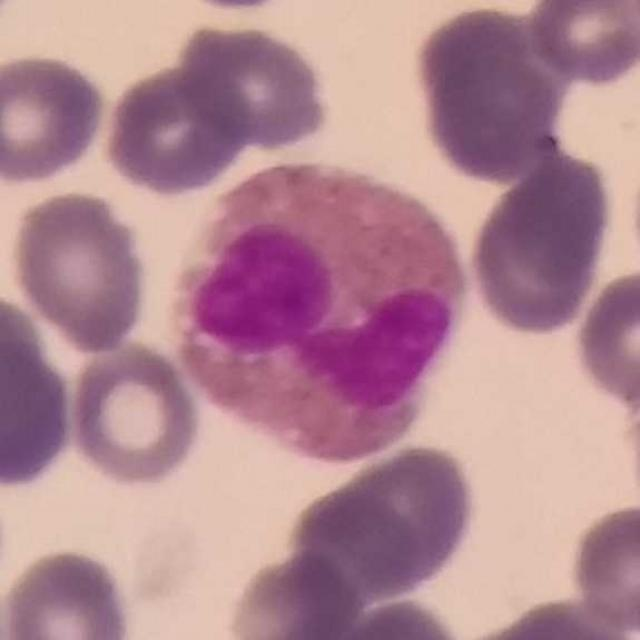Eosinophil: (178, 158, 472, 463)
RBC: (463, 146, 618, 338), (410, 3, 566, 185), (5, 186, 154, 355), (174, 19, 336, 154), (99, 59, 253, 199), (64, 338, 204, 491), (284, 478, 430, 615), (344, 438, 476, 584), (0, 48, 111, 188), (0, 317, 78, 494), (0, 543, 137, 640), (221, 547, 362, 640), (523, 0, 640, 88), (571, 265, 640, 413), (565, 501, 640, 634), (476, 593, 639, 640), (323, 594, 466, 640)
